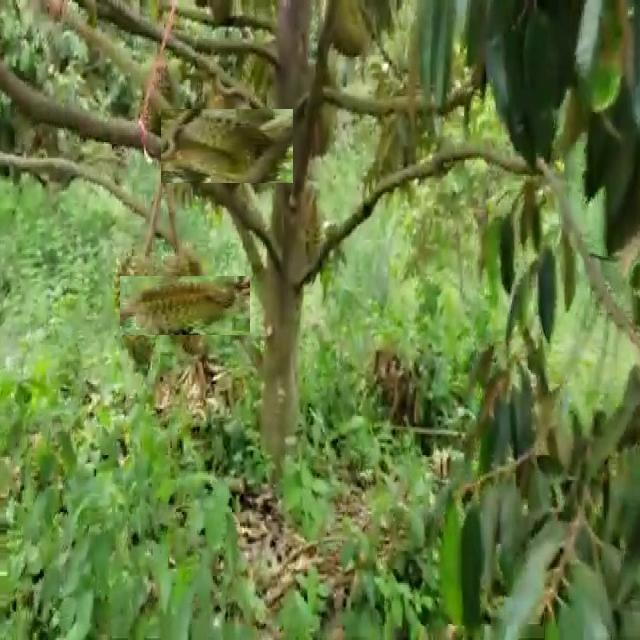durian: (176, 94, 279, 198), (138, 257, 232, 353), (113, 246, 168, 386)
